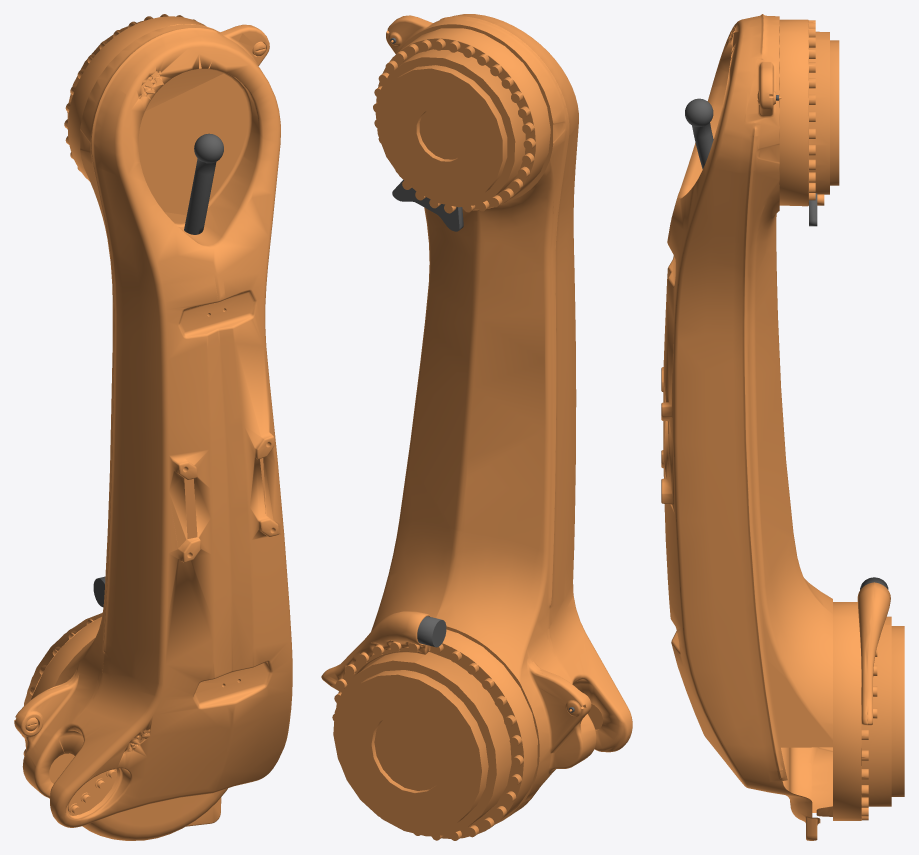
3 renders of one model, left to right at view 1: azimuth 30°, elevation 25°; view 2: azimuth 150°, elevation 25°; view 3: azimuth 270°, elevation 25°, orthographic. The views are drawn at different scales.
Parts seen in each view (by area): view 1: link_2; view 2: link_2; view 3: link_2.
Boxes of the visible parts, box(x1,y1,x2,y2) form: link_2: box(14, 14, 292, 840); link_2: box(321, 14, 632, 840); link_2: box(661, 14, 904, 840).
Size of the model in its own units: 0.4841 by 0.424 by 1.52.
